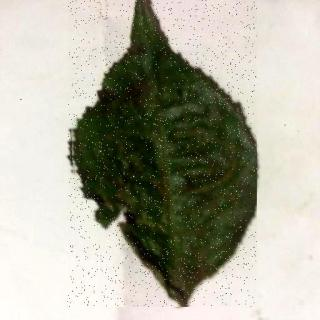Red Leaf Spot: (68, 1, 258, 308)
